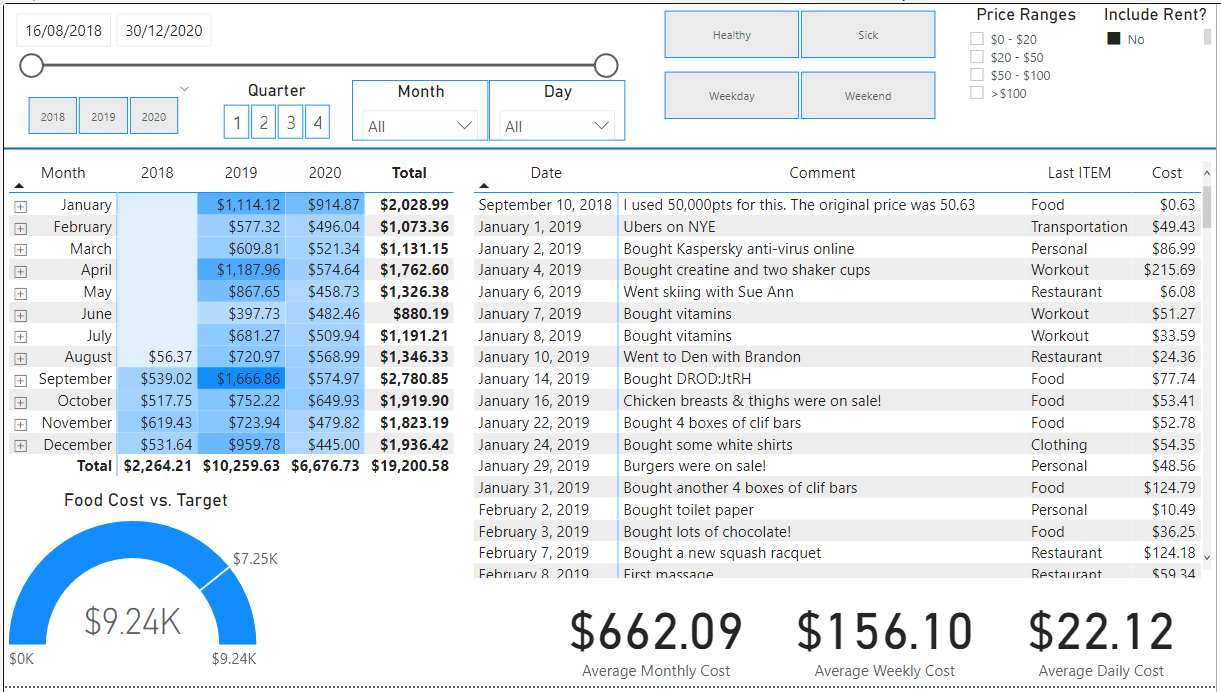

The page's visual inventory and layout, read from the dashboard file:
{"tool":"powerbi","page":{"name":"Monthly/Weekly/Daily Info","canvas":[1280,720],"ordinal":1},"visuals":[{"type":"pivotTable","fields":{"Columns":["Calendar_Lookup.Year"],"Values":["Finance_Data.COST"],"Rows":["Calendar_Lookup.Month_Name","Calendar_Lookup.Day_Name"]},"box":[0,160.6,491.3,352.1],"z":0},{"type":"pivotTable","fields":{"Rows":["Finance_Data.DATE"],"Values":["Finance_Data.COMMENTS","Finance_Data.ITEM","Finance_Data.COST"]},"box":[491.3,160.6,788.7,450.9],"z":1000},{"type":"slicer","title":"Include Rent?","fields":{"Values":["Item_Lookup.Item(NoRent)"]},"box":[1152,0,128,48],"z":2000},{"type":"slicer","title":"Price Ranges","fields":{"Values":["Finance_Data.Price_Ranges"]},"box":[1008,0,144,112],"z":3000},{"type":"slicer","fields":{"Values":["Finance_Data.Sick(Boolean)"]},"box":[672,0,336,64],"z":4000},{"type":"slicer","fields":{"Values":["Calendar_Lookup.Weekday"]},"box":[672,64,336,64],"z":5000},{"type":"slicer","fields":{"Values":["Calendar_Lookup.Year"]},"box":[0,80,208,64],"z":6000},{"type":"slicer","title":"Quarter","fields":{"Values":["Calendar_Lookup.Quarter"]},"box":[208,80,160,64],"z":7000},{"type":"slicer","title":"Month","fields":{"Values":["Calendar_Lookup.Month_Name"]},"box":[368,80,144,64],"z":8000},{"type":"slicer","title":"Day","fields":{"Values":["Calendar_Lookup.Day_Name"]},"box":[512,80,144,64],"z":9000},{"type":"slicer","fields":{"Values":["Calendar_Lookup.Date"]},"box":[0,0,656.5,79.4],"z":10000},{"type":"shape","box":[0,144,1280,16],"z":11000},{"type":"card","fields":{"Values":["Finance_Data.COST average per Month_Name"]},"box":[568.6,611.4,241.5,108.3],"z":11001},{"type":"card","fields":{"Values":["Finance_Data.COST average per End_of_Week"]},"box":[810.1,611.4,240.3,108.3],"z":11002},{"type":"card","fields":{"Values":["Finance_Data.Measure"]},"box":[1038.5,611.4,241.5,108.3],"z":11003},{"type":"gauge","title":"Food Cost vs. Target","fields":{"Y":["Finance_Data.Total_Costs_Food"],"TargetValue":["Finance_Data.Target_Monthly_Food_Cost"],"MaxValue":["Finance_Data.Total_Costs_Food"]},"box":[0,512.7,299.8,207],"z":11004}]}

Visuals, with their boxes in screenshot pixels (x1, y1, x2, y2), scaled from the page's 1280x720 canvas onto the 1221x692 screenshot:
pivotTable - Calendar_Lookup.Year x Finance_Data.COST: {"x1": 0, "y1": 154, "x2": 469, "y2": 493}
pivotTable - Finance_Data.DATE x Finance_Data.COMMENTS: {"x1": 469, "y1": 154, "x2": 1220, "y2": 588}
"Include Rent?" slicer: {"x1": 1099, "y1": 0, "x2": 1220, "y2": 46}
"Price Ranges" slicer: {"x1": 962, "y1": 0, "x2": 1099, "y2": 108}
slicer - Finance_Data.Sick(Boolean): {"x1": 641, "y1": 0, "x2": 962, "y2": 62}
slicer - Calendar_Lookup.Weekday: {"x1": 641, "y1": 62, "x2": 962, "y2": 123}
slicer - Calendar_Lookup.Year: {"x1": 0, "y1": 77, "x2": 198, "y2": 138}
"Quarter" slicer: {"x1": 198, "y1": 77, "x2": 351, "y2": 138}
"Month" slicer: {"x1": 351, "y1": 77, "x2": 488, "y2": 138}
"Day" slicer: {"x1": 488, "y1": 77, "x2": 626, "y2": 138}
slicer - Calendar_Lookup.Date: {"x1": 0, "y1": 0, "x2": 626, "y2": 76}
shape: {"x1": 0, "y1": 138, "x2": 1220, "y2": 154}
card - Finance_Data.COST average per Month_Name: {"x1": 542, "y1": 588, "x2": 773, "y2": 691}
card - Finance_Data.COST average per End_of_Week: {"x1": 773, "y1": 588, "x2": 1002, "y2": 691}
card - Finance_Data.Measure: {"x1": 991, "y1": 588, "x2": 1220, "y2": 691}
"Food Cost vs. Target" gauge: {"x1": 0, "y1": 493, "x2": 286, "y2": 691}
